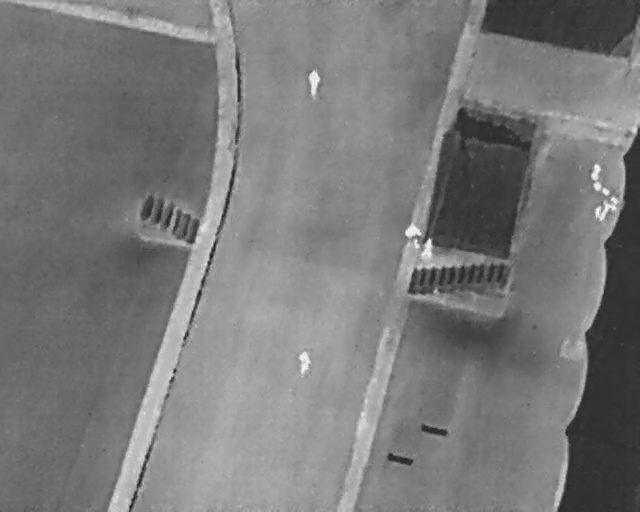Person: (307, 66, 322, 100), (406, 222, 422, 249), (298, 351, 311, 379), (421, 236, 434, 262), (595, 205, 603, 223)
